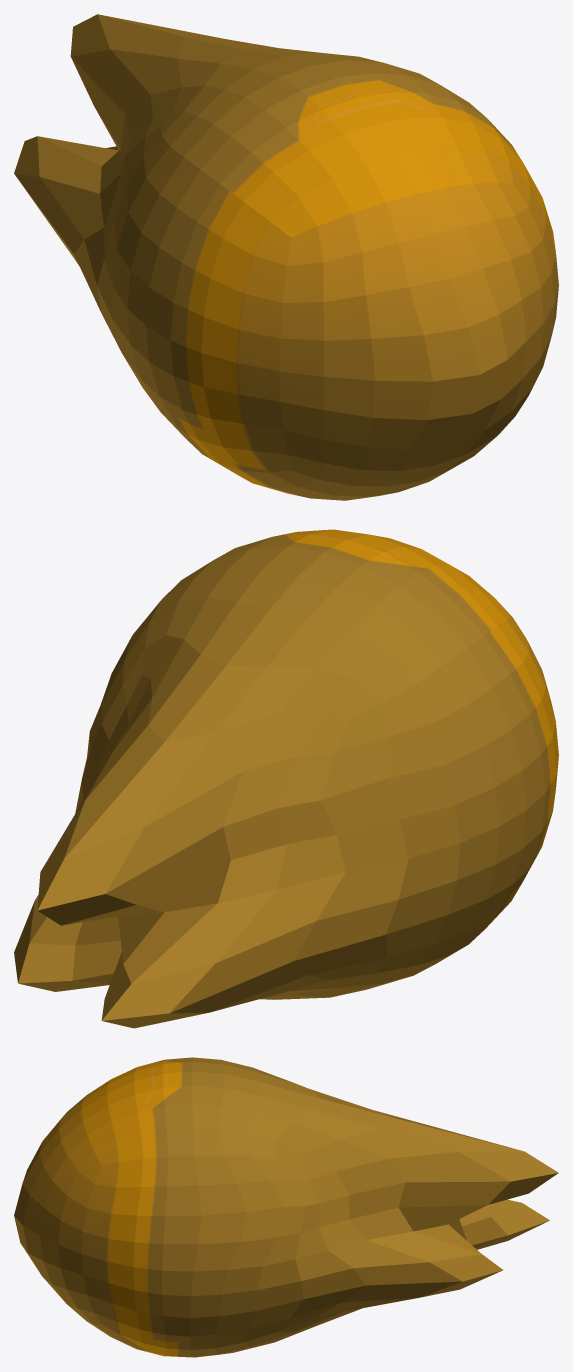
File: Bola de fuego.fbx
3 views of the same model, one above another, from view 1: azimuth 30°, elevation 25°; view 2: azimuth 150°, elevation 25°; view 3: azimuth 270°, elevation 25° (orthographic). The views are drawn at different scales.
Parts seen in each view (by area): view 1: Quadsphere; view 2: Quadsphere; view 3: Quadsphere.
Part boxes in pixels (x1,y1,x2,y2): Quadsphere: [14, 14, 558, 500]; Quadsphere: [14, 529, 558, 1028]; Quadsphere: [14, 1057, 558, 1357].
Bounding box in the file's own units: 26.7 × 26.44 × 48.31.
